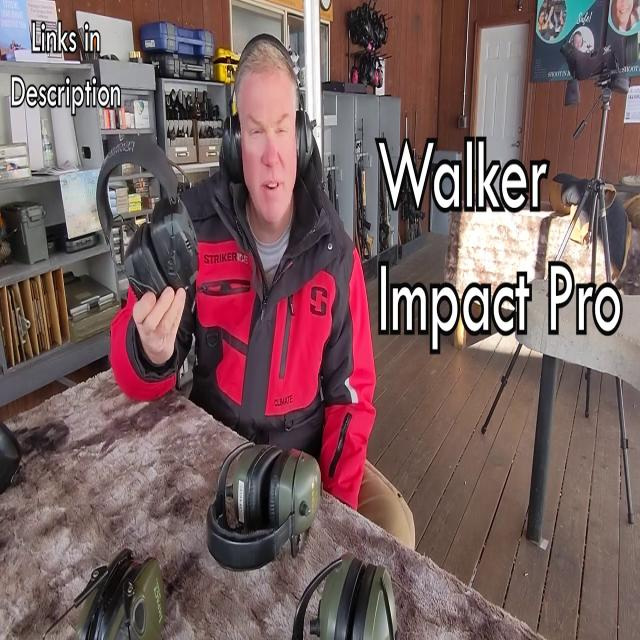earmuff: (150, 190, 202, 297), (120, 219, 170, 305), (218, 114, 245, 186), (294, 106, 318, 186)
